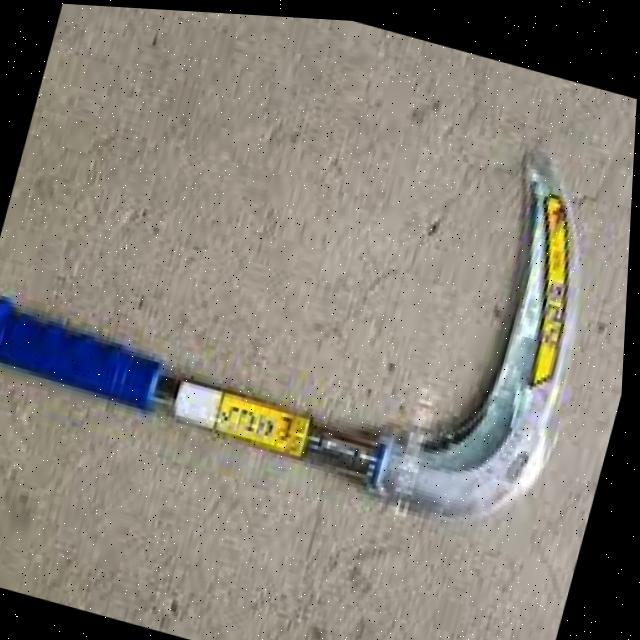sickle: (0, 4, 640, 549)
